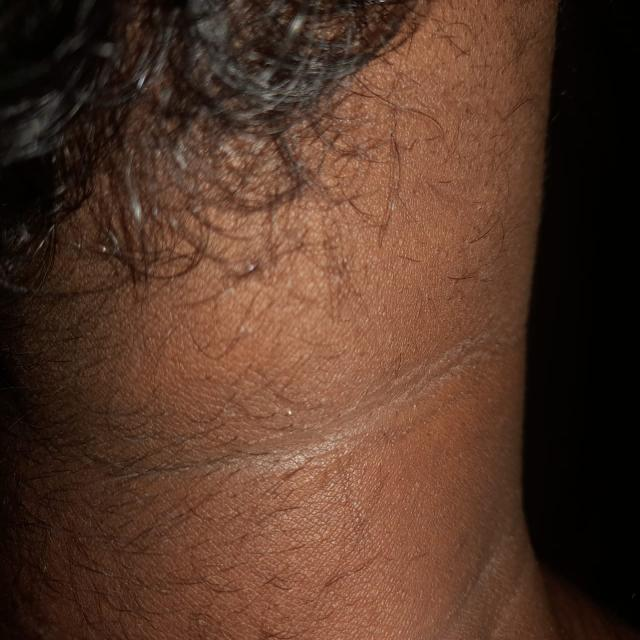Healthy: (56, 3, 558, 640)
